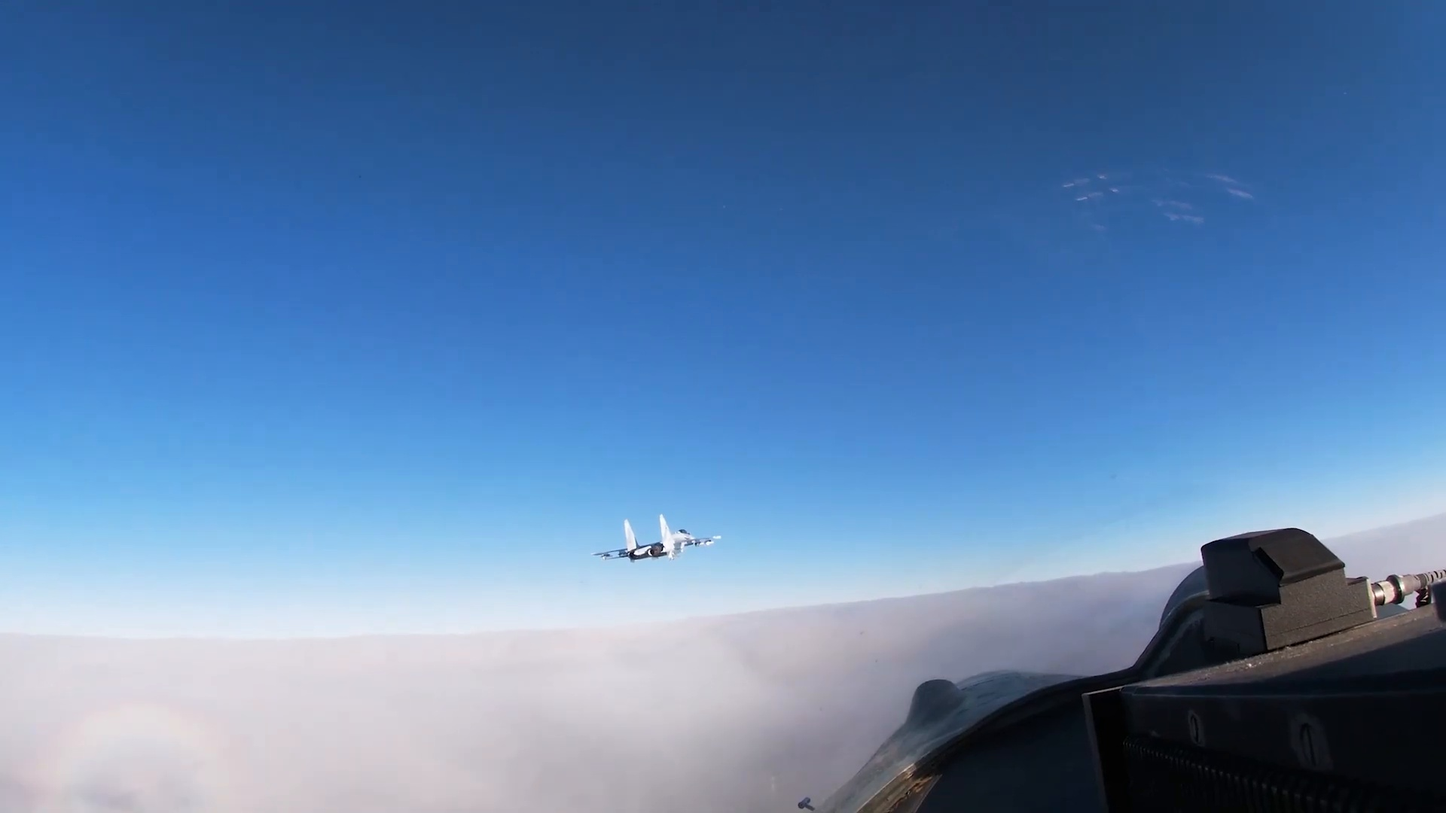Su35: (591, 510, 725, 564)
